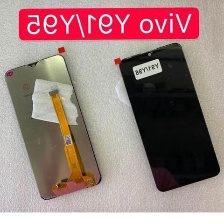phone: (114, 39, 223, 194), (2, 50, 106, 202)
